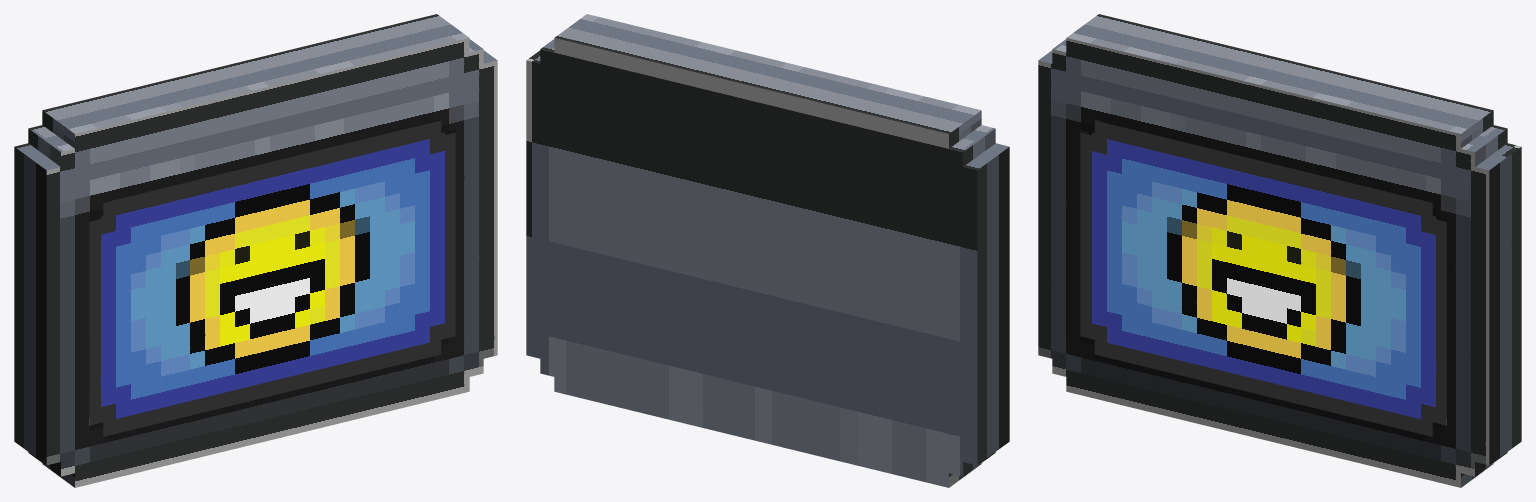
The model's file is status_display_ai_veryhappy.glb.
3 views of the same model, side by side, from view 1: azimuth 30°, elevation 25°; view 2: azimuth 150°, elevation 25°; view 3: azimuth 330°, elevation 25° (orthographic).
Parts seen in each view (by area): view 1: Continuous_Frame, Picture_Overlay, Recessed_Glass; view 2: Continuous_Frame; view 3: Continuous_Frame, Picture_Overlay, Recessed_Glass.
Part boxes in pixels (<box>): Continuous_Frame: <box>14,14,497,487</box>; Picture_Overlay: <box>89,120,455,436</box>; Recessed_Glass: <box>89,119,454,221</box>; Continuous_Frame: <box>526,14,1009,487</box>; Continuous_Frame: <box>1038,14,1521,487</box>; Picture_Overlay: <box>1080,120,1446,436</box>; Recessed_Glass: <box>1081,119,1446,221</box>.
Bounding box in the file's own units: 0.9 × 0.675 × 0.1129.
Materials: 3 (3 with a texture image).
